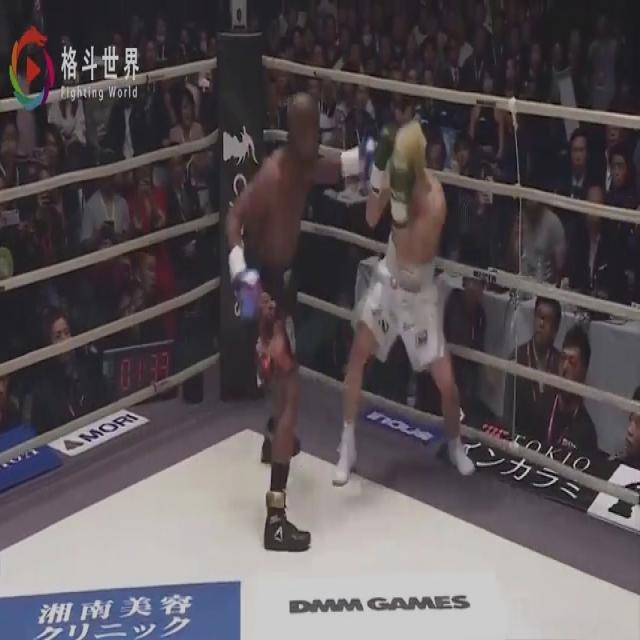fight: (224, 89, 474, 553)
non-fight: (501, 294, 563, 441), (534, 325, 598, 450), (554, 128, 600, 282), (508, 186, 566, 286), (444, 132, 482, 254)
